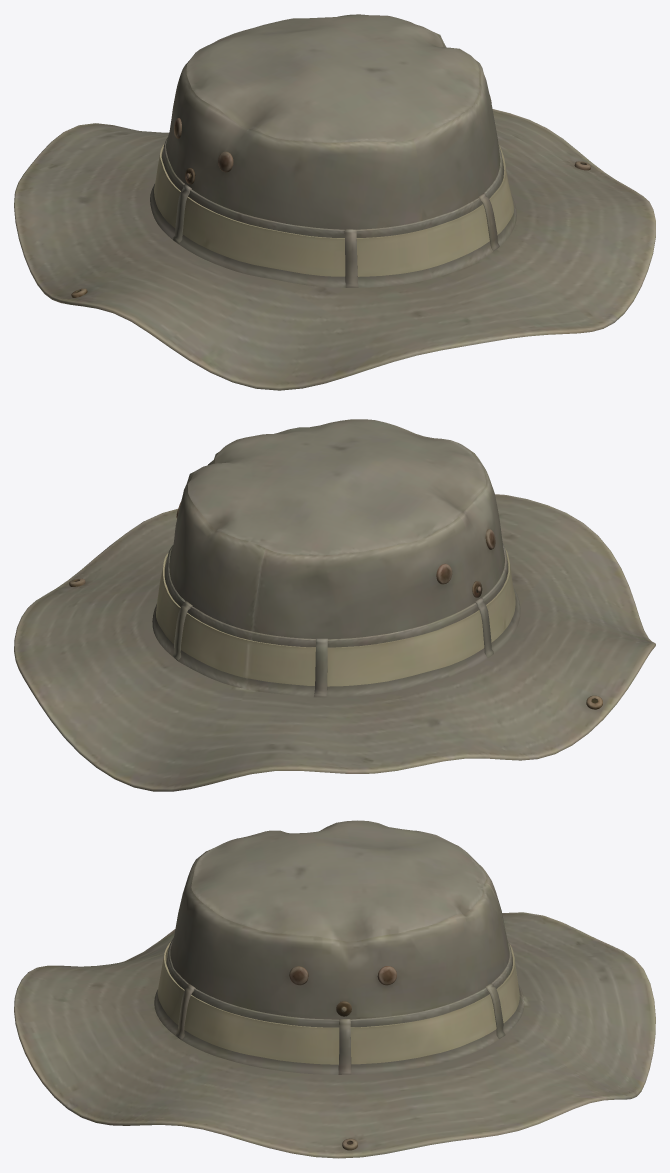
Rendered from fishermans_hat.c94adf5b.glb.
3 views of the same model, one above another, from view 1: azimuth 30°, elevation 25°; view 2: azimuth 150°, elevation 25°; view 3: azimuth 270°, elevation 25° (orthographic). The views are drawn at different scales.
Visible parts, largest first — view 1: fishermans_hat; view 2: fishermans_hat; view 3: fishermans_hat.
Boxes of the visible parts, bbox=[...] form: fishermans_hat: bbox=[14, 14, 655, 390]; fishermans_hat: bbox=[14, 419, 655, 791]; fishermans_hat: bbox=[14, 820, 655, 1158].
Size of the model in its own units: 0.6658 by 0.255 by 0.72.
1 material, 1 textured.
